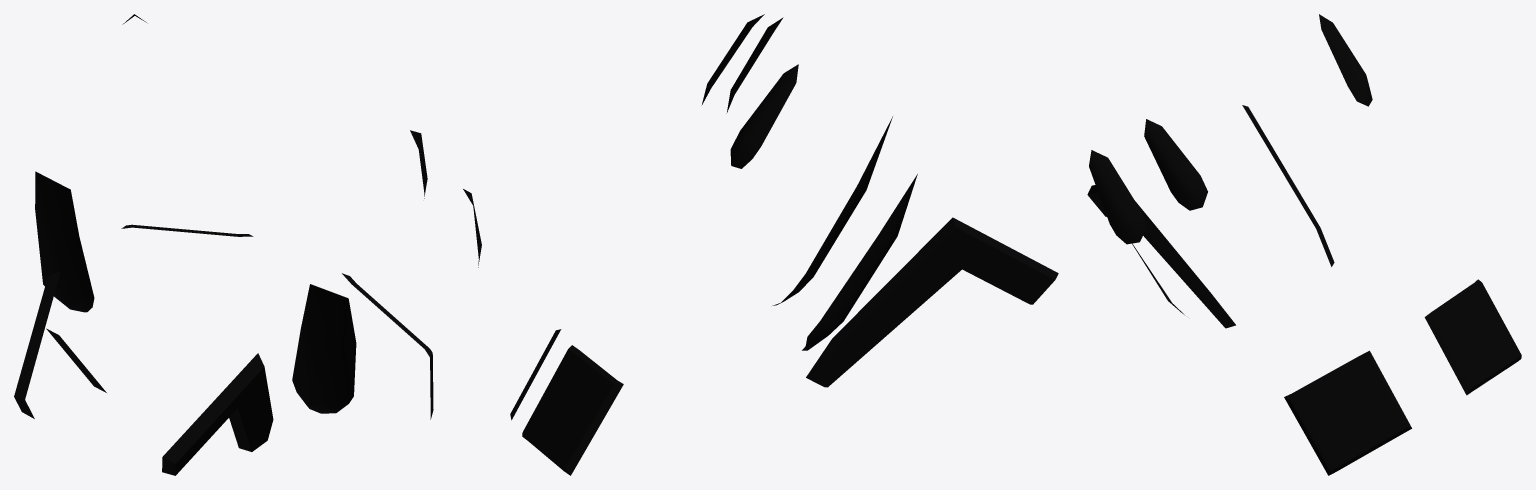
The model's file is prop_static_ama_shipwreck_01_09.glb.
3 renders of one model, left to right at view 1: azimuth 30°, elevation 25°; view 2: azimuth 150°, elevation 25°; view 3: azimuth 270°, elevation 25°, orthographic. The views are drawn at different scales.
Parts seen in each view (by area): view 1: ama_ship_wreck_01_09_LOD0; view 2: ama_ship_wreck_01_09_LOD0; view 3: ama_ship_wreck_01_09_LOD0.
Part boxes in pixels (left/top/right/bottom): ama_ship_wreck_01_09_LOD0: left=14, top=14, right=481, bottom=475; ama_ship_wreck_01_09_LOD0: left=510, top=14, right=1058, bottom=475; ama_ship_wreck_01_09_LOD0: left=1087, top=14, right=1521, bottom=475.
Size of what is drawn, in the model's own units: 4.07 by 3.64 by 4.05.
1 material, 1 textured.
